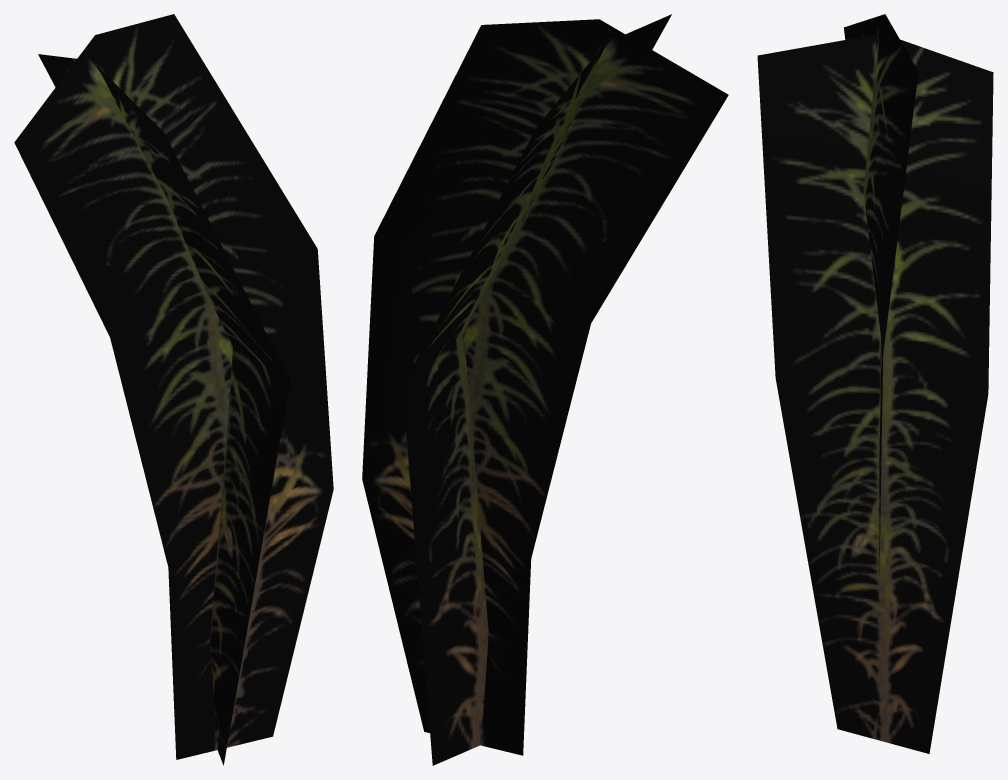
File: moss_01_l.glb
The picture shows the model from 3 angles, left to right: view 1: azimuth 30°, elevation 25°; view 2: azimuth 150°, elevation 25°; view 3: azimuth 270°, elevation 25°; orthographic projection. The views are drawn at different scales.
Visible parts, largest first — view 1: moss_01_tall_b_LOD0; view 2: moss_01_tall_b_LOD0; view 3: moss_01_tall_b_LOD0.
Boxes of the visible parts, x1,y1,x2,y2 form: moss_01_tall_b_LOD0: (14, 14, 333, 765); moss_01_tall_b_LOD0: (362, 14, 728, 765); moss_01_tall_b_LOD0: (757, 14, 993, 753).
Bounding box in the file's own units: 0.0177 × 0.0372 × 0.0117.
Materials: 1 (1 with a texture image).
